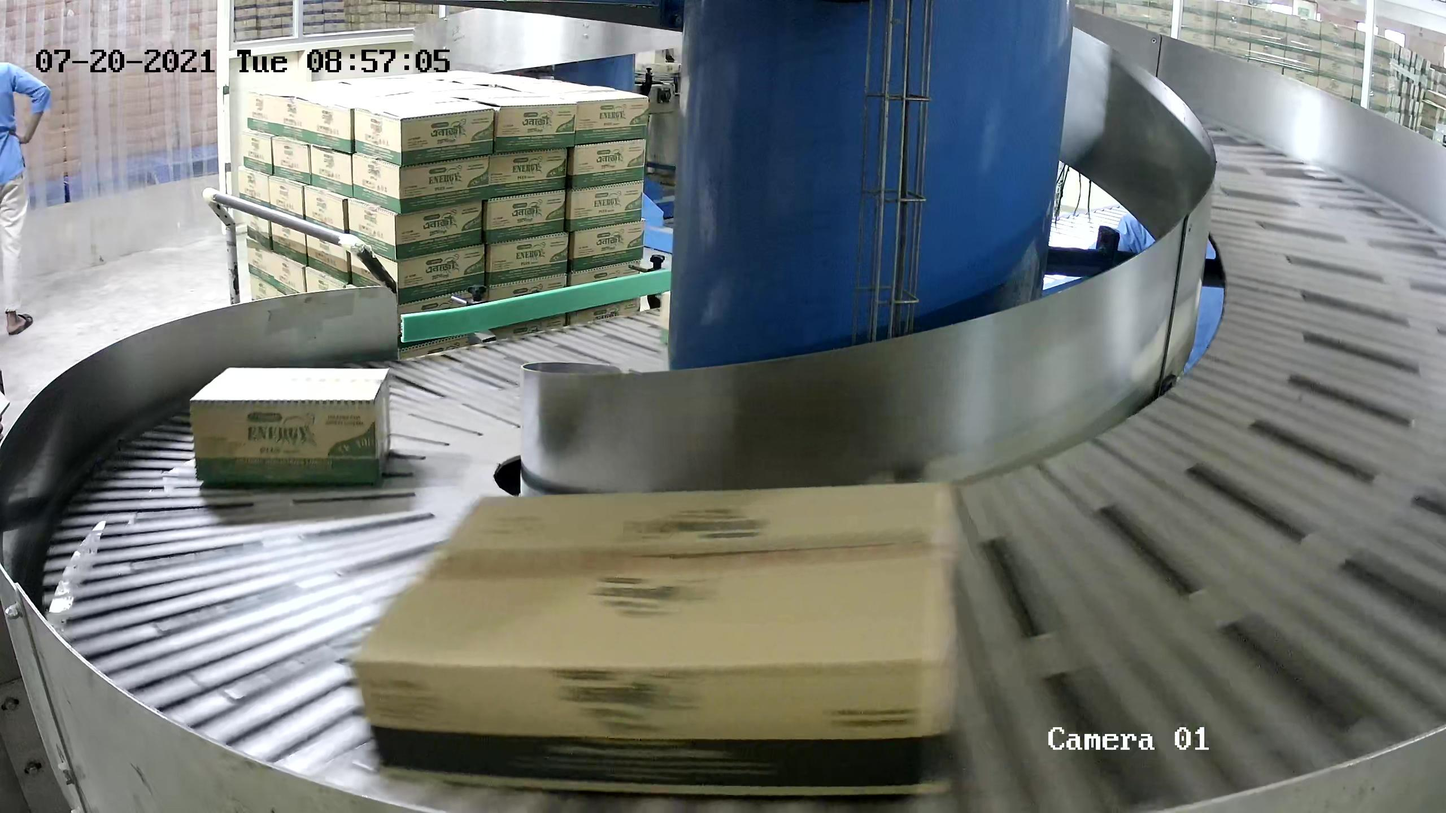Box: (346, 475, 964, 813), (188, 365, 392, 489)
